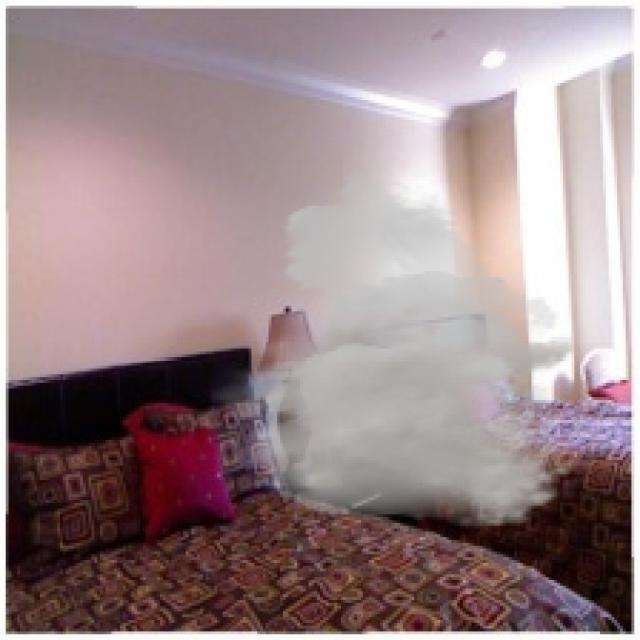smoke: (203, 157, 577, 529)
